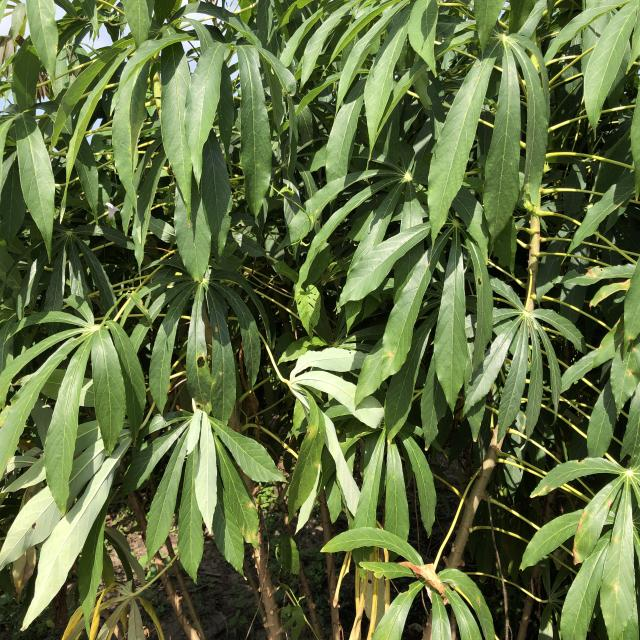Maleza: (286, 282, 336, 350)
Mosca: (26, 518, 43, 535), (208, 366, 229, 378), (210, 324, 221, 337)
